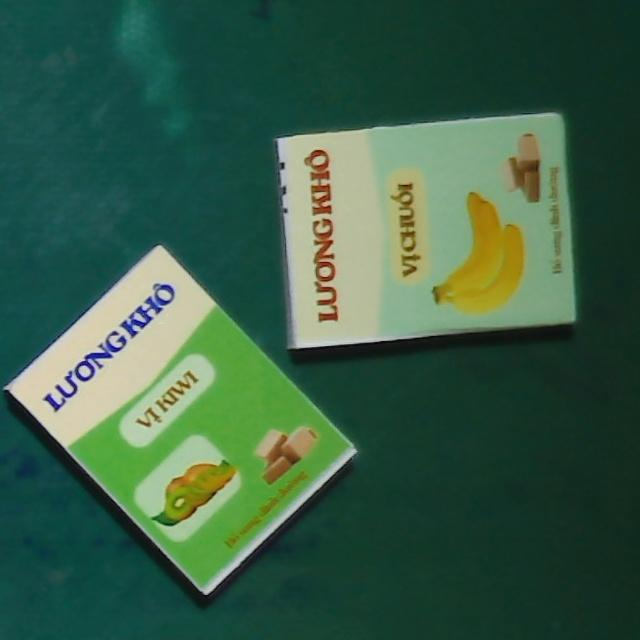chuoi: (273, 111, 580, 347)
kiwi: (3, 242, 360, 601), (463, 204, 464, 204)
